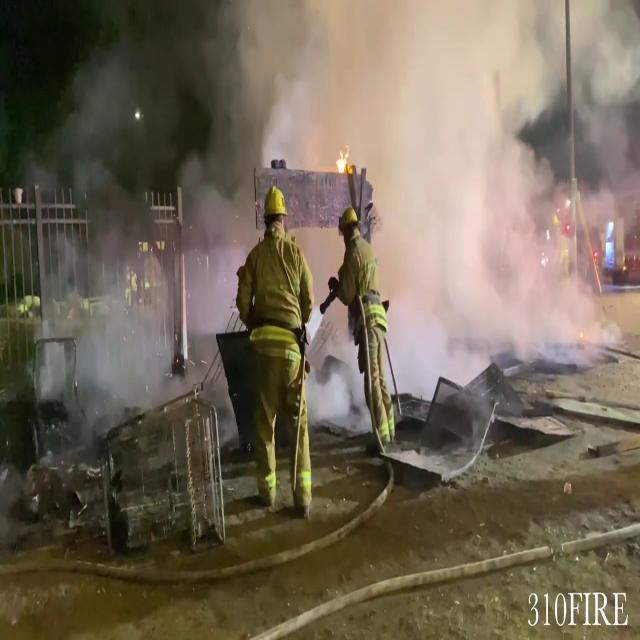Smoke: (42, 0, 640, 383)
